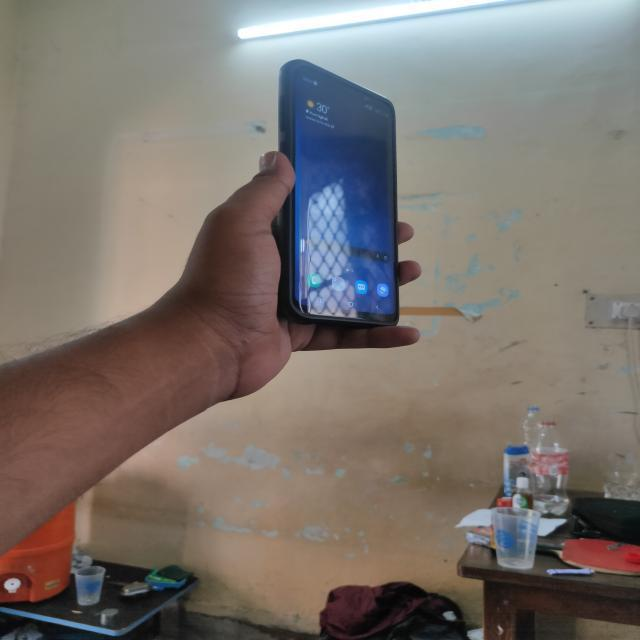Phone: (276, 55, 402, 338)
